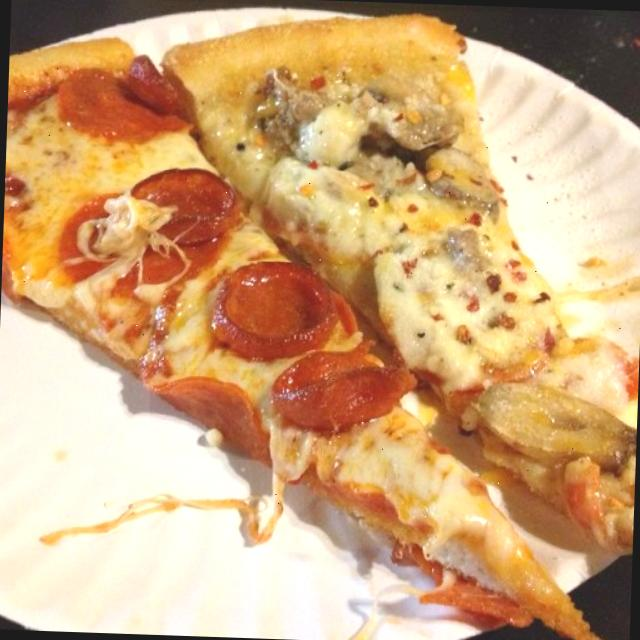pepperoni: (252, 336, 400, 425), (214, 260, 345, 358), (147, 366, 280, 461), (58, 61, 201, 148), (126, 169, 264, 244)
pizza: (1, 10, 636, 640)
